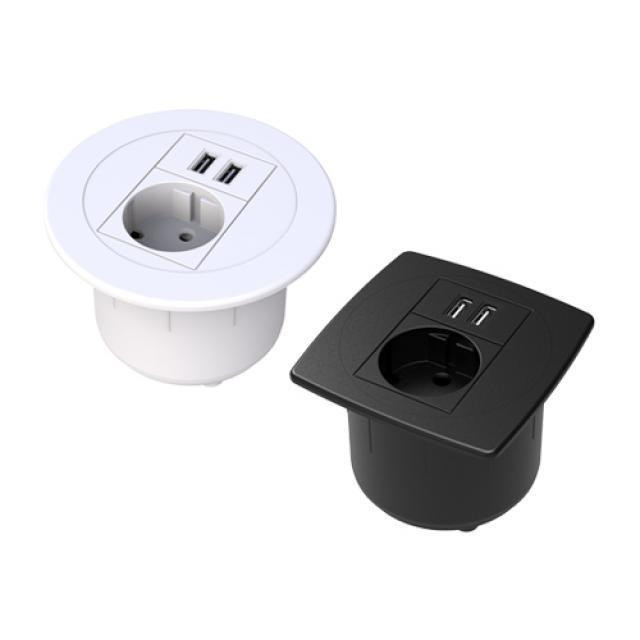typeb: (59, 106, 286, 307), (324, 280, 569, 413)
